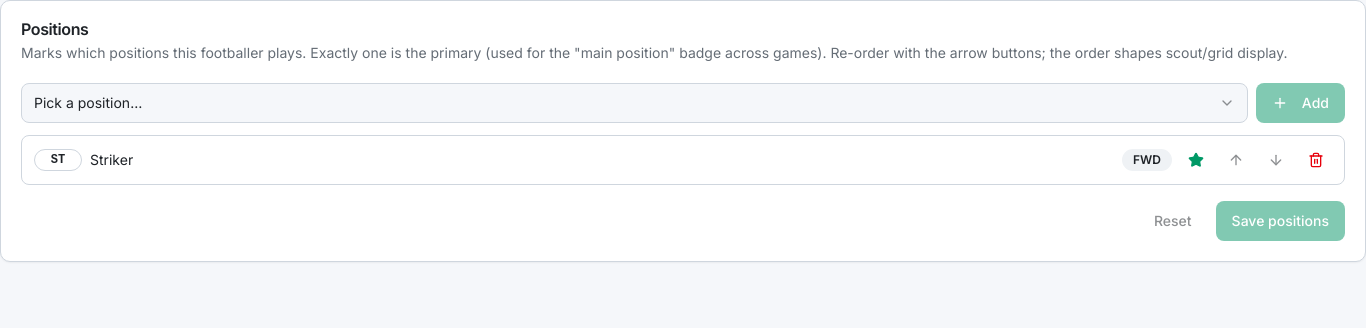
Test: PositionsEditor › Reset clears any unsaved edits
The image size is (1366, 328).
Expected: the text "Striker" is shown, [90,151,133,168]
Step 1. Click the dropdown → [88, 102], box [21,83,1248,123]
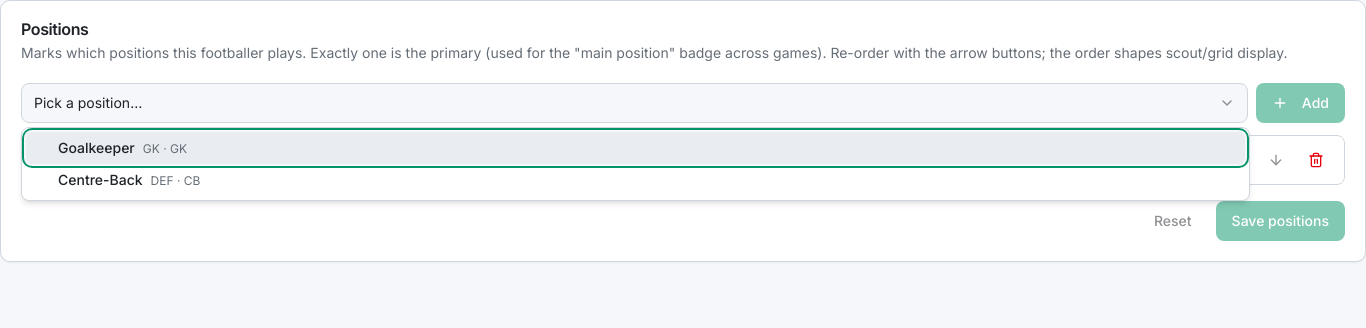
Step 2. Click the text "Centre-Back" → [100, 180], box [58,171,143,188]
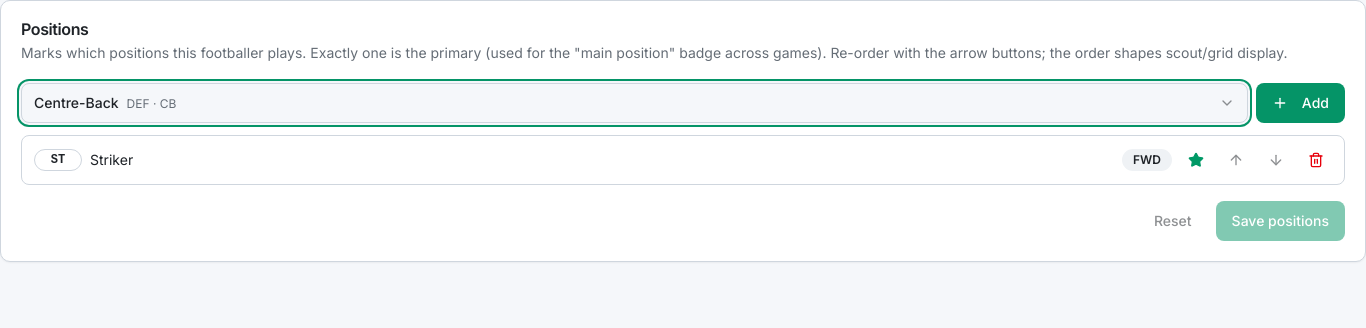
Step 3. Click the button "Add" → [1300, 103], box [1256,83,1345,123]
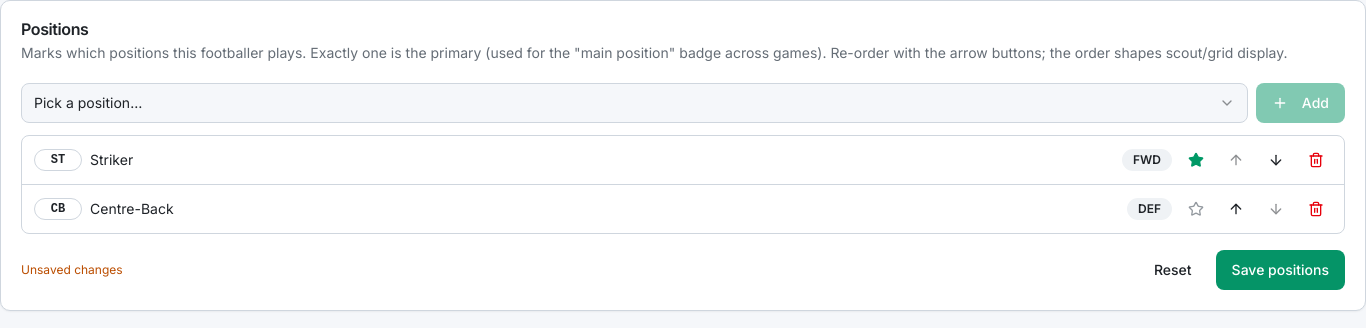
Result: the text "Unsaved changes" is shown at [21,262,123,278]
Step 4. Click the button "Reset" → [1173, 270], box [1138,250,1208,290]
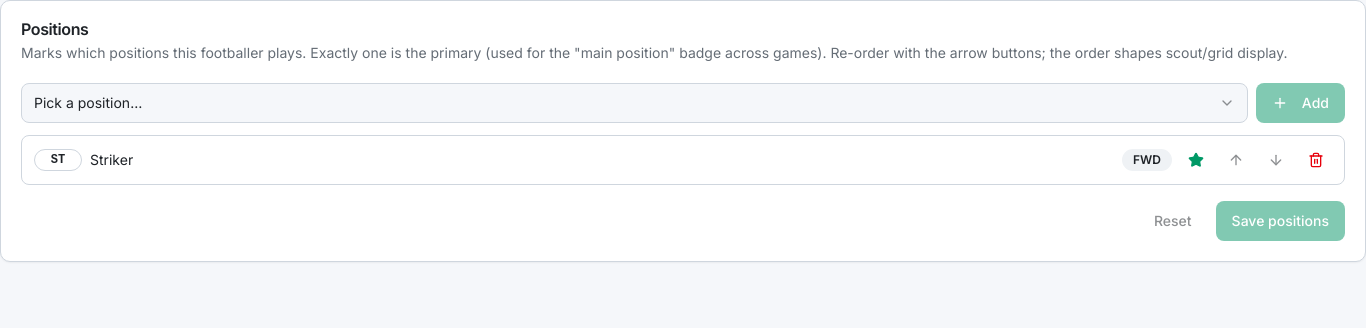
Result: the text "Unsaved changes" is gone
Result: the text "Centre-Back" is gone
